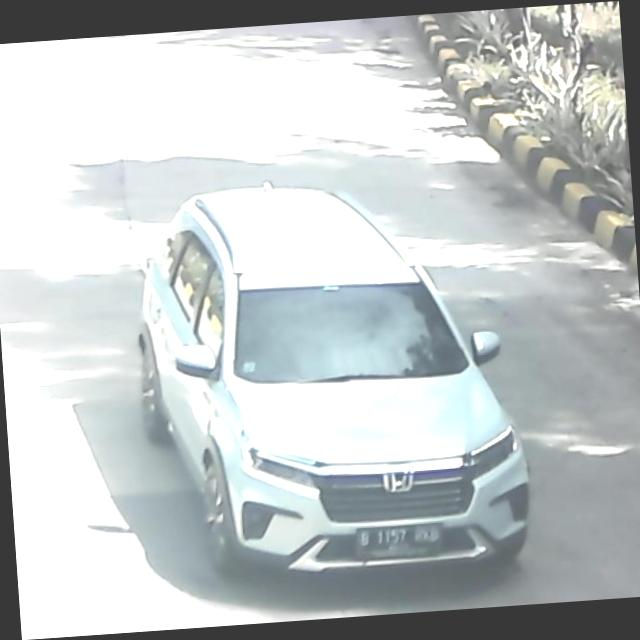plate: (356, 514, 451, 560)
